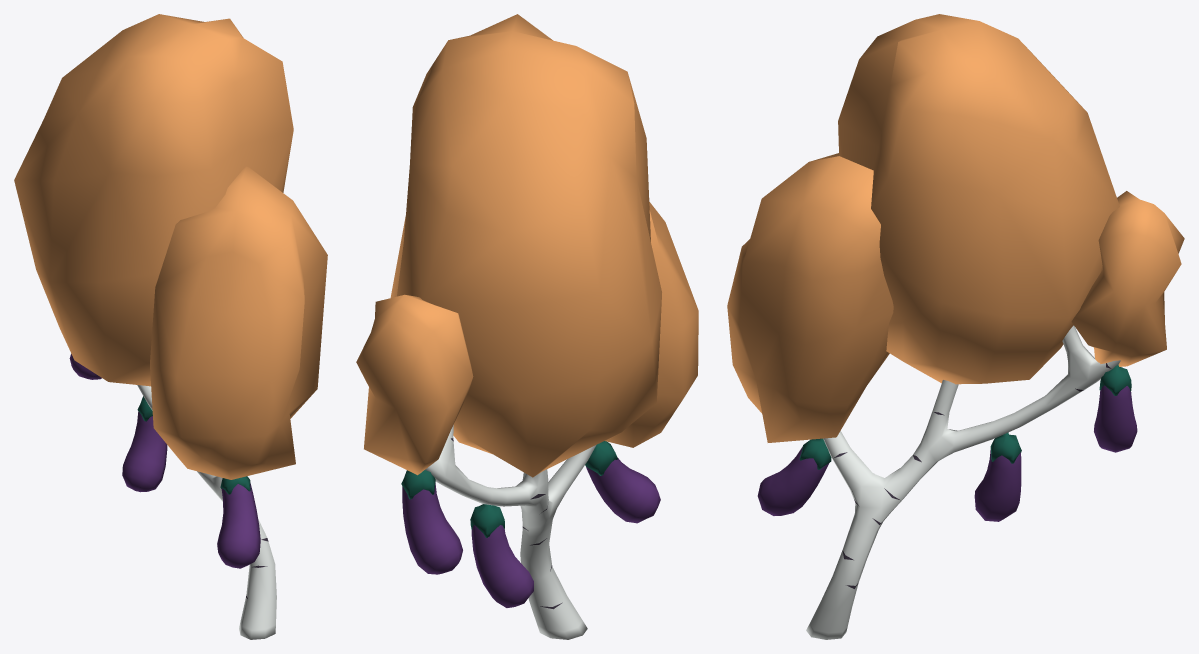
The model's file is Tree-Eggplant-no2.gltf.
The picture shows the model from 3 angles, left to right: view 1: azimuth 30°, elevation 25°; view 2: azimuth 150°, elevation 25°; view 3: azimuth 270°, elevation 25°; orthographic projection. The views are drawn at different scales.
Parts seen in each view (by area): view 1: Tree-Eggplant-No1; view 2: Tree-Eggplant-No1; view 3: Tree-Eggplant-No1.
Part boxes in pixels (box(x1,y1,x2,y2)): Tree-Eggplant-No1: box(14, 14, 327, 639); Tree-Eggplant-No1: box(356, 14, 698, 639); Tree-Eggplant-No1: box(727, 14, 1184, 639).
Bounding box in the file's own units: 1.44 × 3.57 × 2.48.
1 material, 1 textured.
